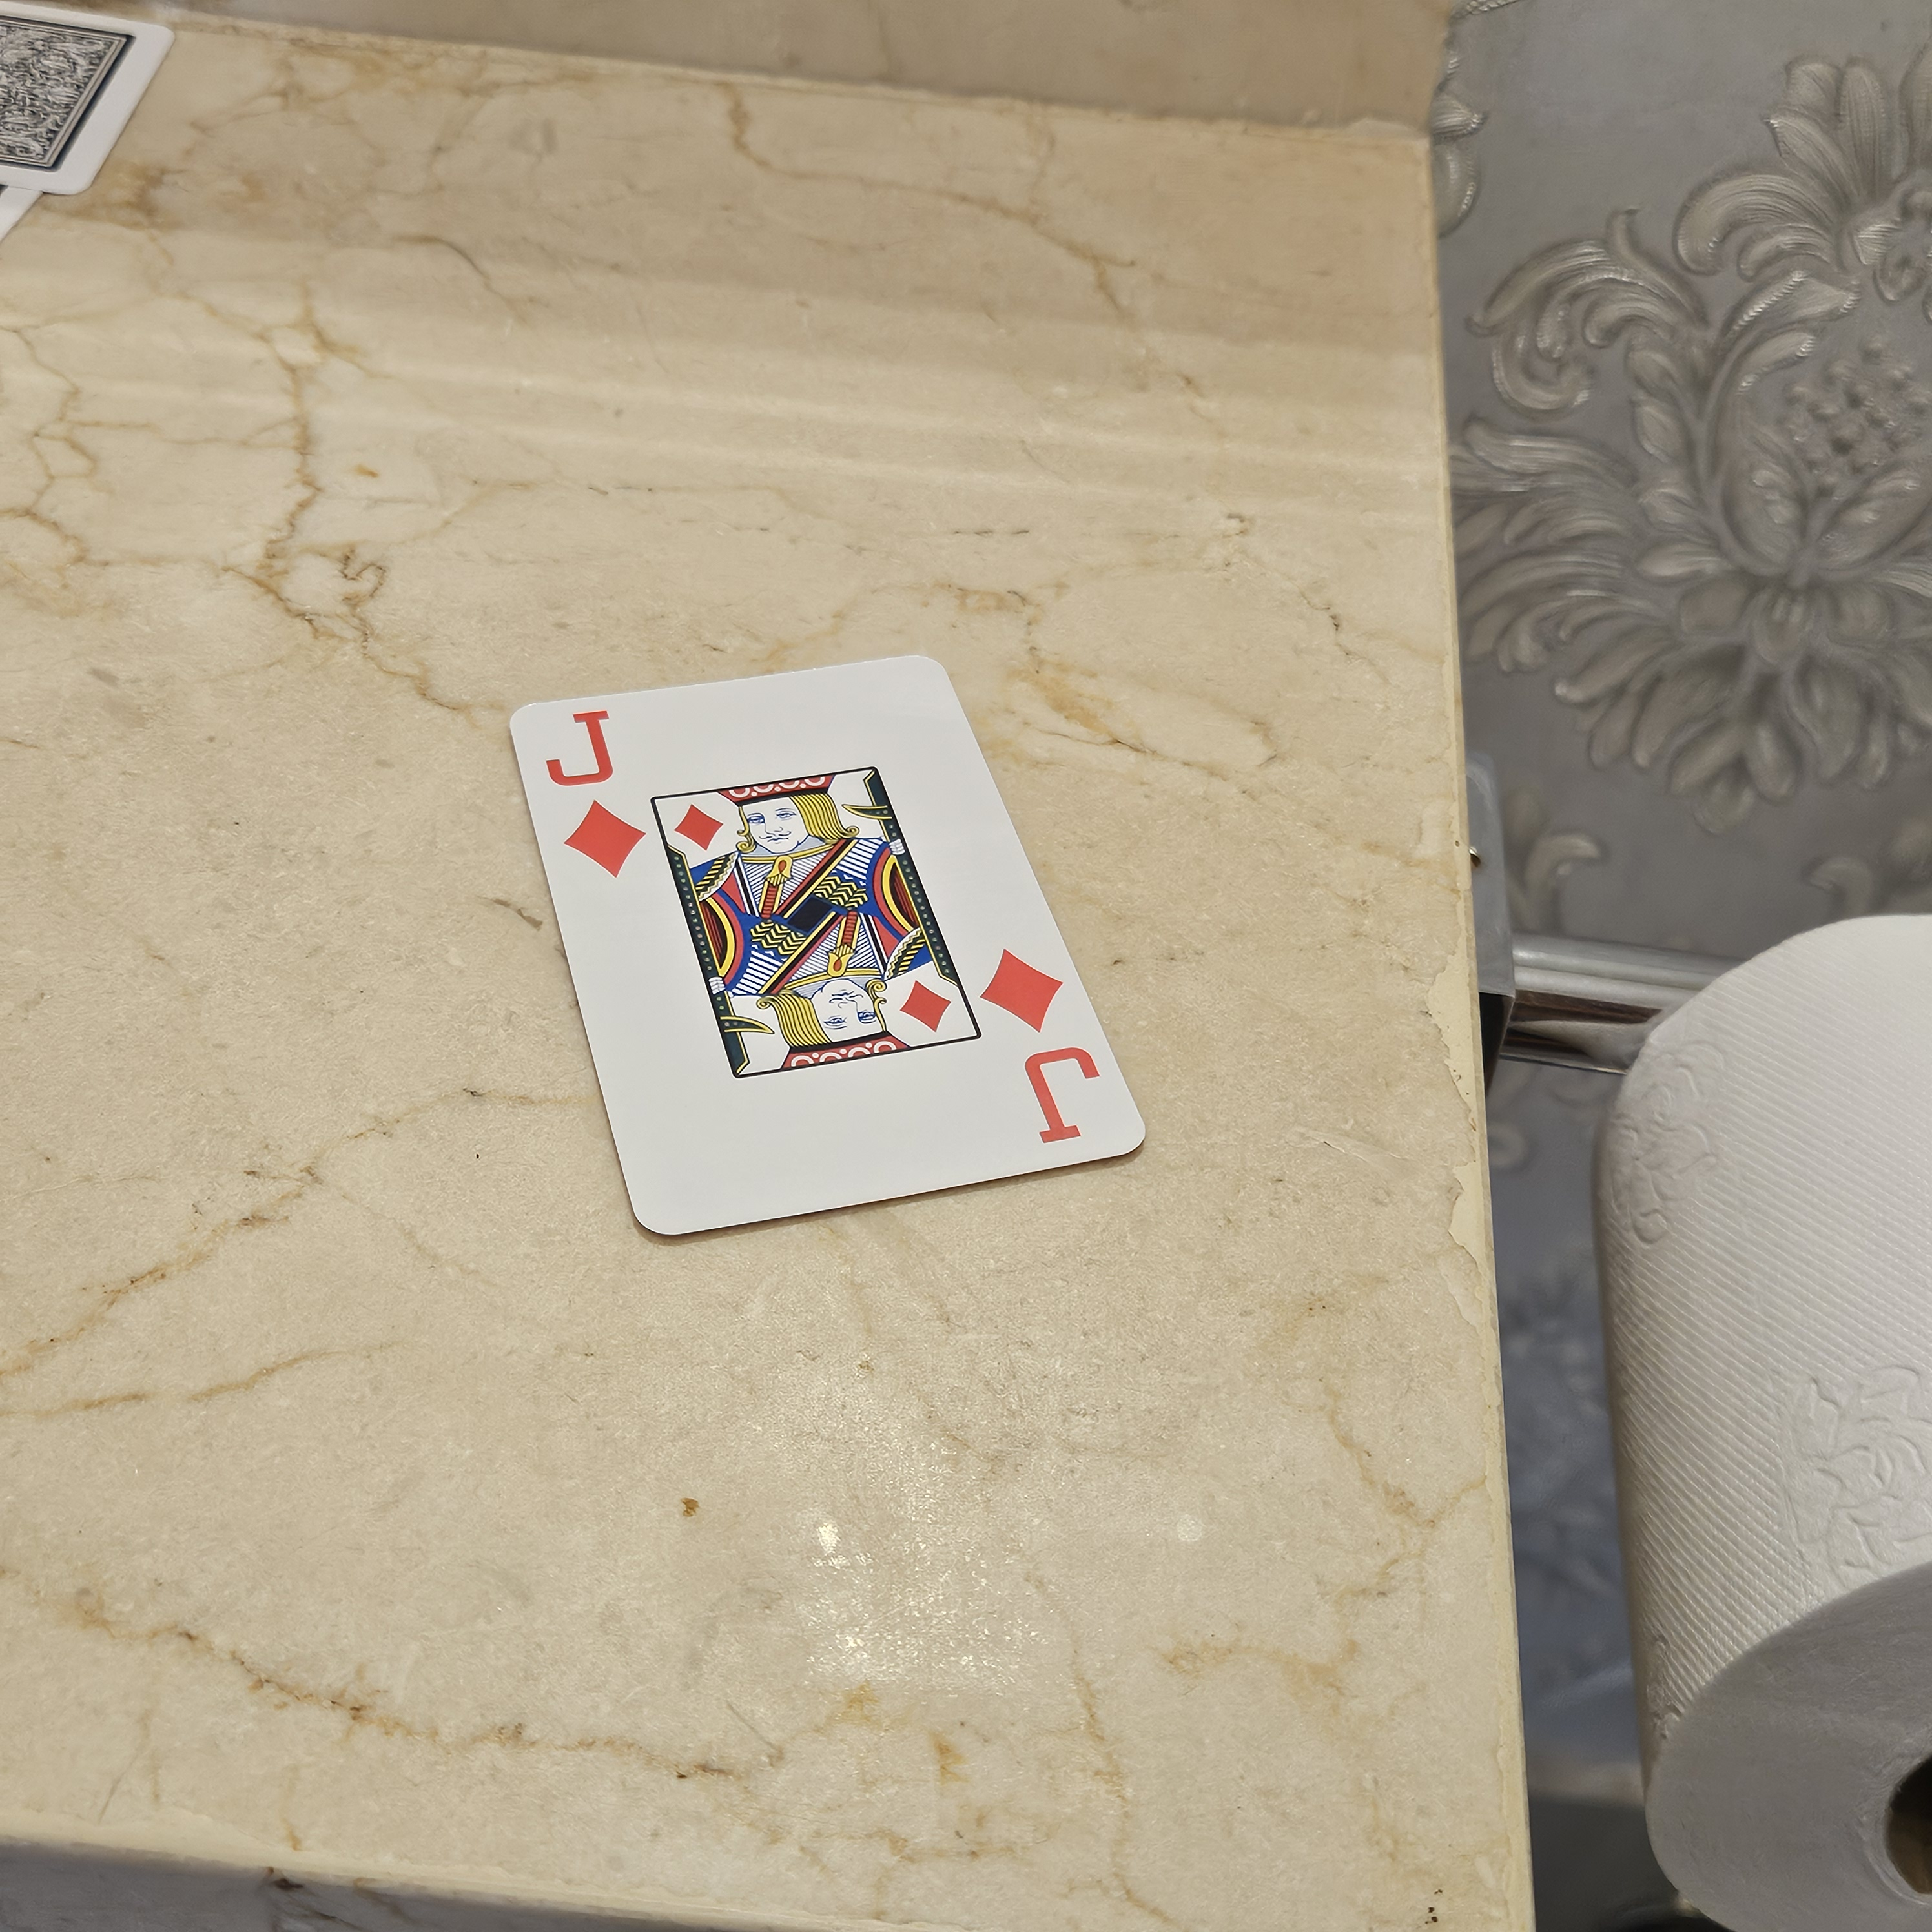JO: (973, 934, 1131, 1157), (524, 706, 663, 885)
